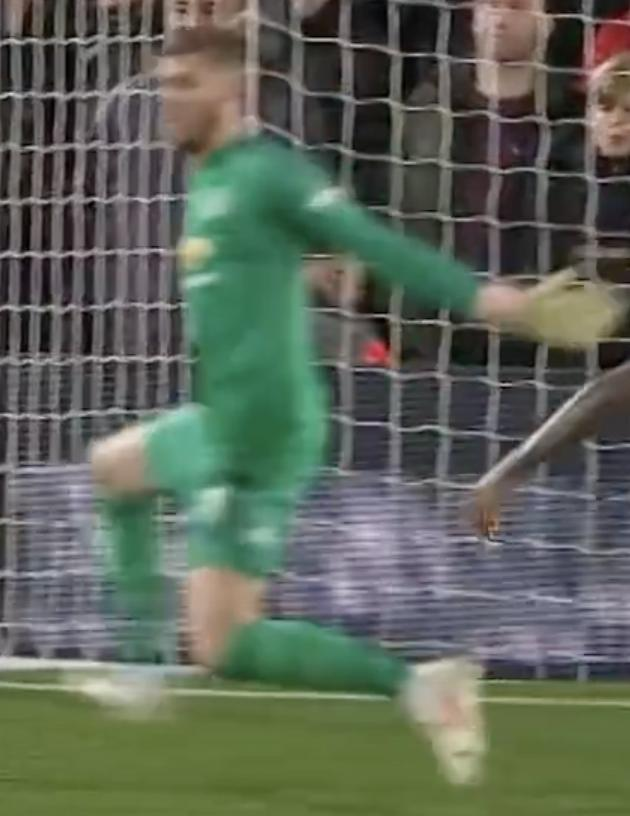goalkeeper: (49, 17, 630, 816)
